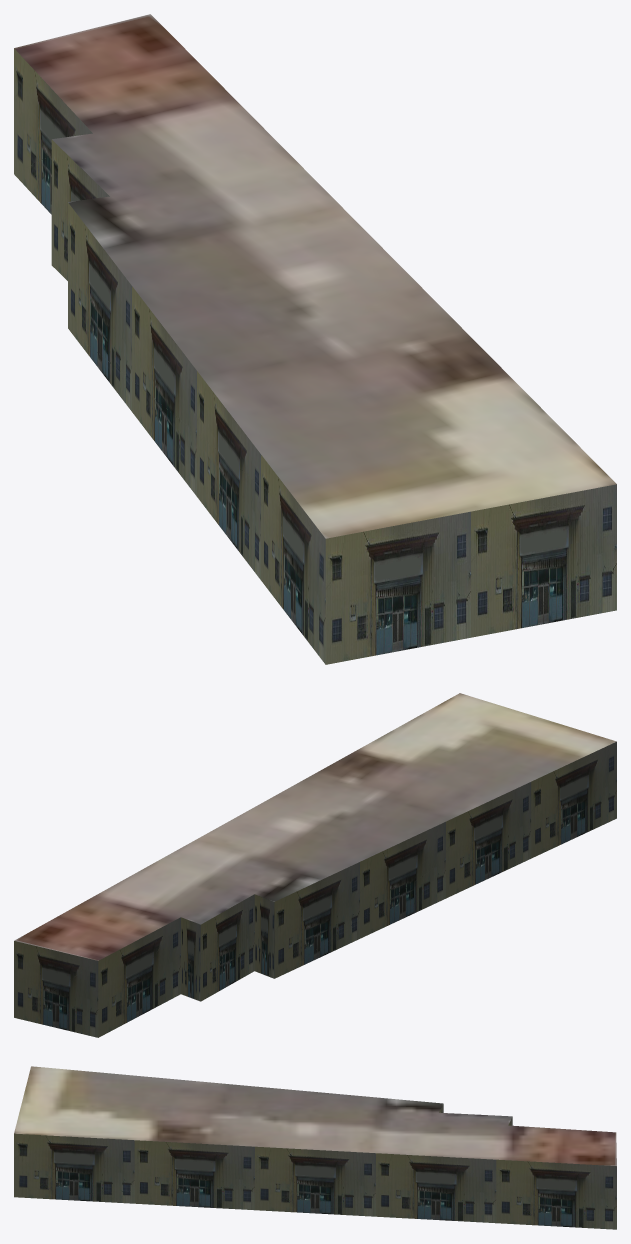
Rendered from T_1T07N4NUF9.dae.
The picture shows the model from 3 angles, top to bottom: view 1: azimuth 30°, elevation 25°; view 2: azimuth 150°, elevation 25°; view 3: azimuth 270°, elevation 25°; orthographic projection. The views are drawn at different scales.
Parts seen in each view (by area): view 1: SketchUp (×5); view 2: SketchUp (×7); view 3: SketchUp (×2).
Part boxes in pixels (x1,y1,x2,y2): SketchUp (×5): [14, 14, 616, 664]; SketchUp (×7): [14, 693, 616, 1037]; SketchUp (×2): [14, 1066, 616, 1229].
Size of the model in its own units: 11.66 by 29.75 by 3.46.
2 materials, 2 textured.
